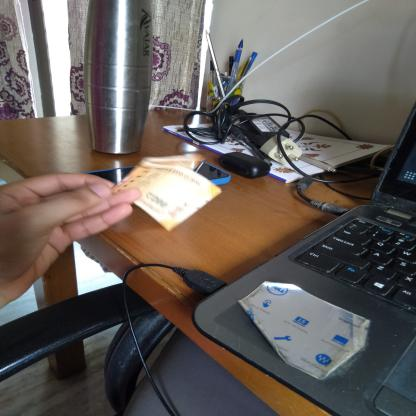New200Front: (118, 162, 218, 228)
